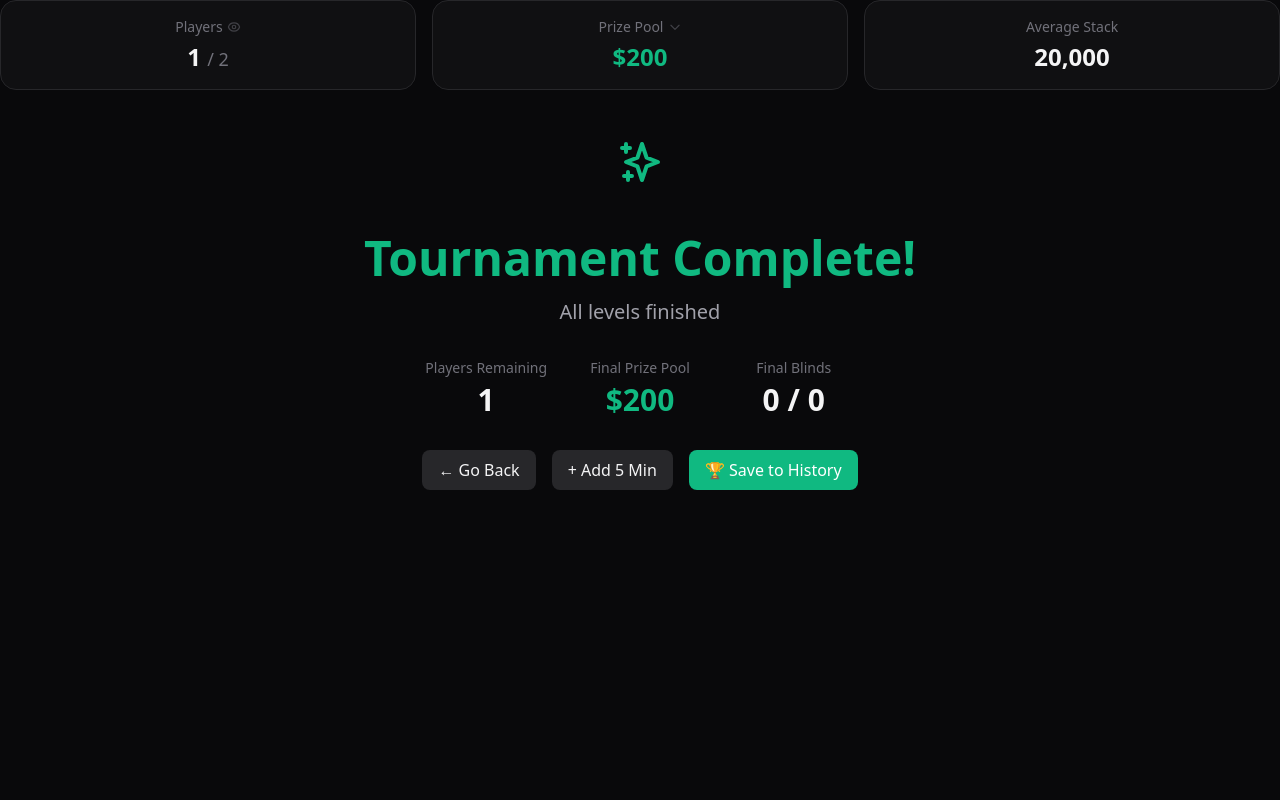
Test case: Timer Component › Edge Cases › identifies likely winner when only 1 player remains
This screenshot has width=1280, height=800.
Open winner prompt - should pre-fill with Alice
Click the button "🏆 Save to History".
click(773, 470)  # box [689, 450, 858, 490]
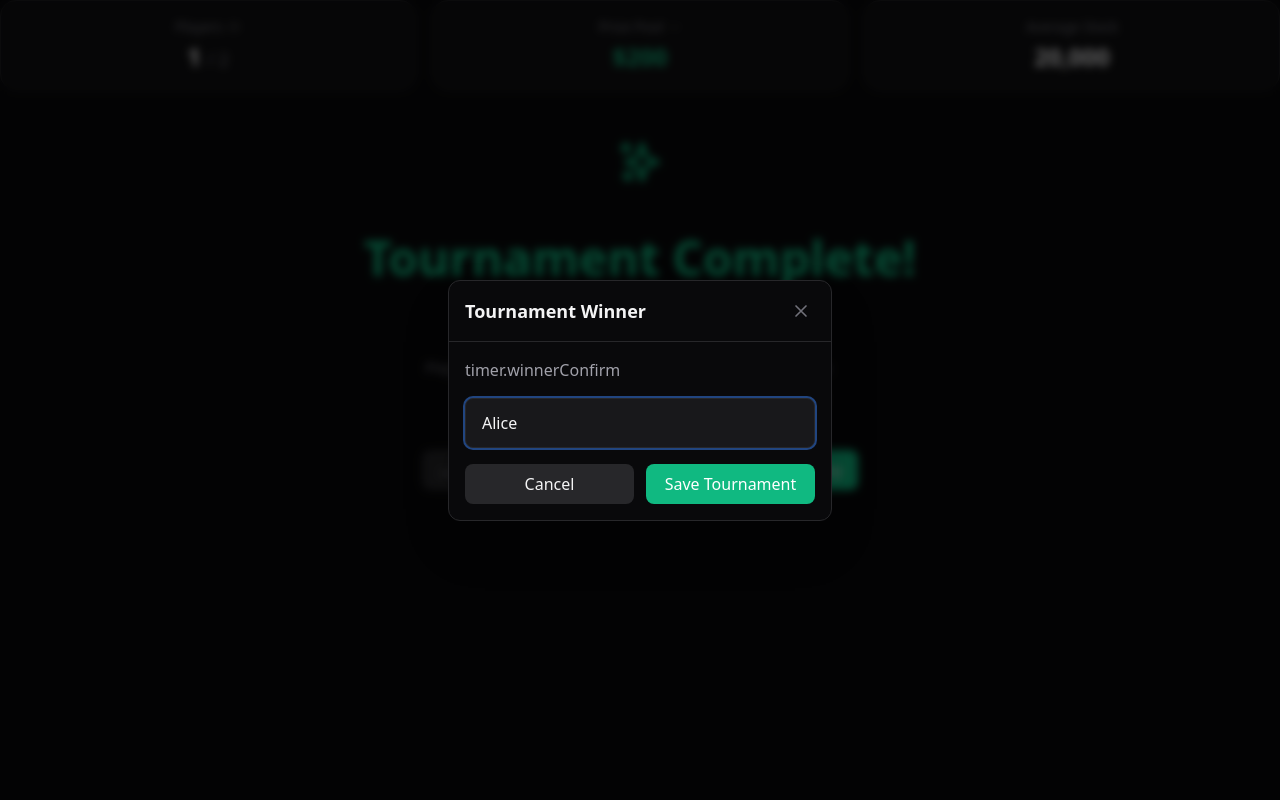
expect the field holds "Alice": met, box [465, 398, 815, 448]
